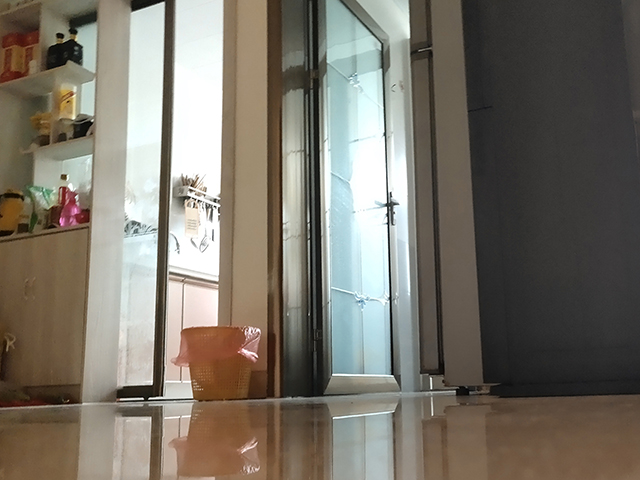cabinet: (1, 1, 135, 407), (165, 265, 221, 399)
trashcan: (178, 322, 262, 403)
